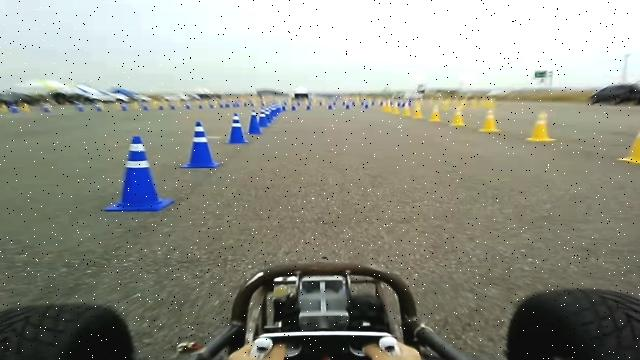blue cone: (103, 135, 174, 212), (179, 121, 220, 168), (225, 112, 248, 144), (246, 110, 262, 134)
yellow cone: (616, 122, 640, 163), (526, 110, 556, 142), (478, 108, 499, 132), (450, 106, 466, 127), (428, 104, 442, 122), (413, 99, 423, 118), (402, 101, 411, 116), (391, 101, 400, 115), (382, 100, 391, 112)
